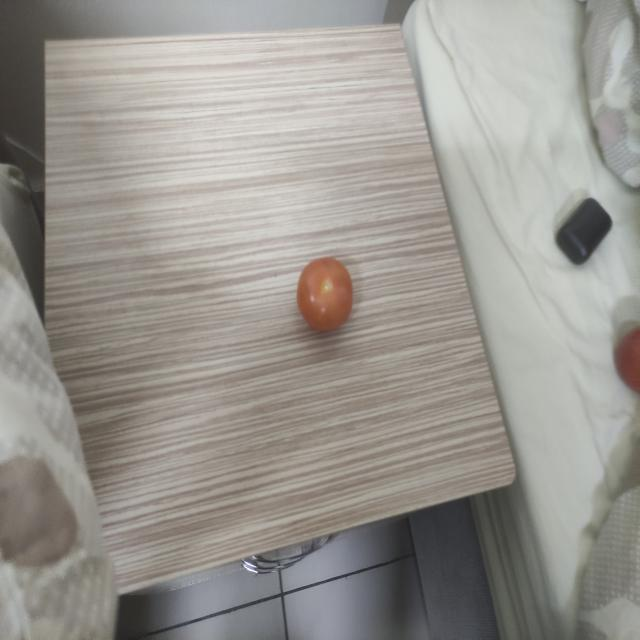sari: (289, 249, 375, 343)
